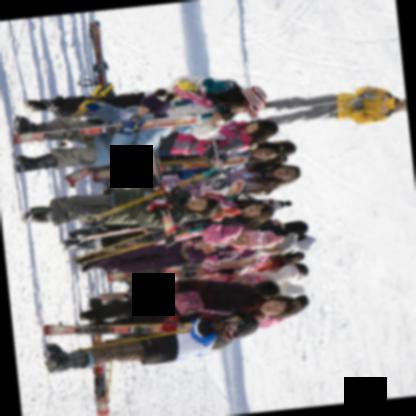handbag: (169, 290, 232, 315), (199, 192, 222, 199)
